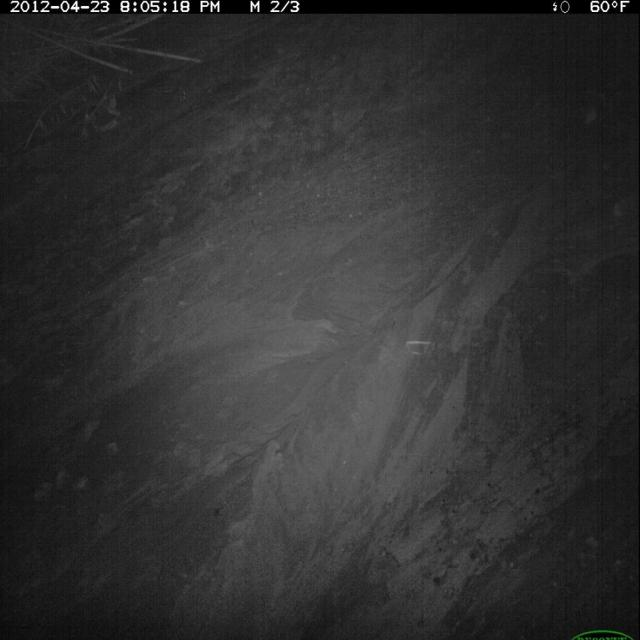dog: (586, 69, 637, 223)
